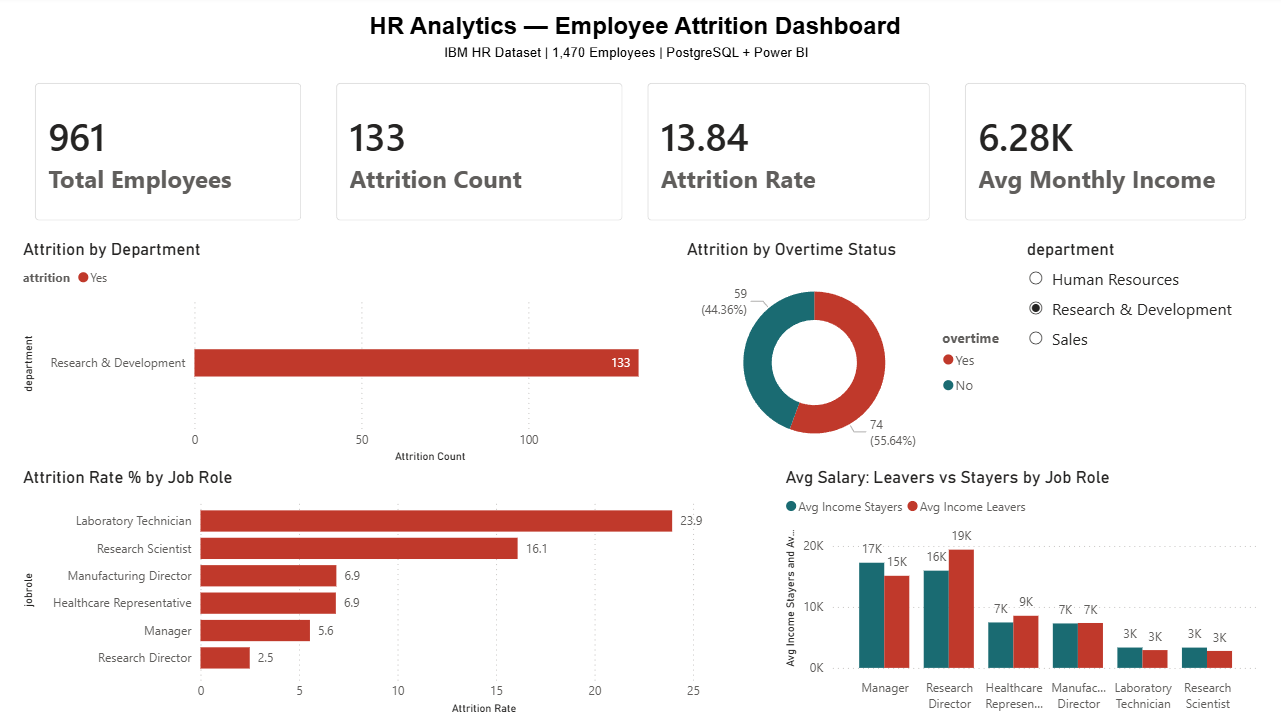

This screenshot's page, from the dashboard's own definition file:
{"tool":"powerbi","page":{"name":"Page 1","canvas":[1280,720],"ordinal":0},"visuals":[{"type":"textbox","box":[439.1,41.1,400.6,39.8],"z":0},{"type":"cardVisual","fields":{"Data":["public hr_employee.Total Employees"]},"box":[19.9,69.7,299.8,171.7],"z":1000},{"type":"cardVisual","fields":{"Data":["public hr_employee.Attrition Rate"]},"box":[629.4,69.7,316,171.7],"z":2000},{"type":"cardVisual","fields":{"Data":["public hr_employee.Avg Monthly Income"]},"box":[945.4,69.7,314.7,171.7],"z":3000},{"type":"clusteredBarChart","title":"Attrition by Department","fields":{"Category":["public hr_employee.department"],"Y":["public hr_employee.Attrition Count"],"Series":["public hr_employee.attrition"]},"box":[20,240.9,660,228.1],"z":4000},{"type":"cardVisual","fields":{"Data":["public hr_employee.Attrition Count"]},"box":[319.7,69.7,319.7,171.7],"z":5000},{"type":"clusteredBarChart","title":"Attrition Rate % by Job Role","fields":{"Category":["public hr_employee.jobrole"],"Y":["public hr_employee.Attrition Rate"]},"box":[20,469,758.3,250.9],"z":6000},{"type":"donutChart","title":"Attrition by Overtime Status","fields":{"Category":["public hr_employee.overtime"],"Y":["public hr_employee.Attrition Count"]},"box":[679.9,240.9,339.2,228.1],"z":7000},{"type":"listSlicer","fields":{"Values":["public hr_employee.department"]},"box":[1019.2,240.9,240.9,228.1],"z":8000},{"type":"clusteredColumnChart","title":"Avg Salary: Leavers vs Stayers by Job Role","fields":{"Category":["public hr_employee.jobrole"],"Y":["public hr_employee.Avg Income Stayers","public hr_employee.Avg Income Leavers"]},"box":[778.3,469,481.8,250.9],"z":9000},{"type":"textbox","box":[364.9,11.4,548.8,39.9],"z":10000}]}

Visuals, with their boxes in screenshot pixels (x1, y1, x2, y2), scaled from the page's 1280x720 canvas onto the 1281x716 screenshot:
textbox: [left=439, top=41, right=840, bottom=80]
cardVisual - public hr_employee.Total Employees: [left=20, top=69, right=320, bottom=240]
cardVisual - public hr_employee.Attrition Rate: [left=630, top=69, right=946, bottom=240]
cardVisual - public hr_employee.Avg Monthly Income: [left=946, top=69, right=1261, bottom=240]
"Attrition by Department" clusteredBarChart: [left=20, top=240, right=681, bottom=466]
cardVisual - public hr_employee.Attrition Count: [left=320, top=69, right=640, bottom=240]
"Attrition Rate % by Job Role" clusteredBarChart: [left=20, top=466, right=779, bottom=715]
"Attrition by Overtime Status" donutChart: [left=680, top=240, right=1020, bottom=466]
listSlicer - public hr_employee.department: [left=1020, top=240, right=1261, bottom=466]
"Avg Salary: Leavers vs Stayers by Job Role" clusteredColumnChart: [left=779, top=466, right=1261, bottom=715]
textbox: [left=365, top=11, right=914, bottom=51]
